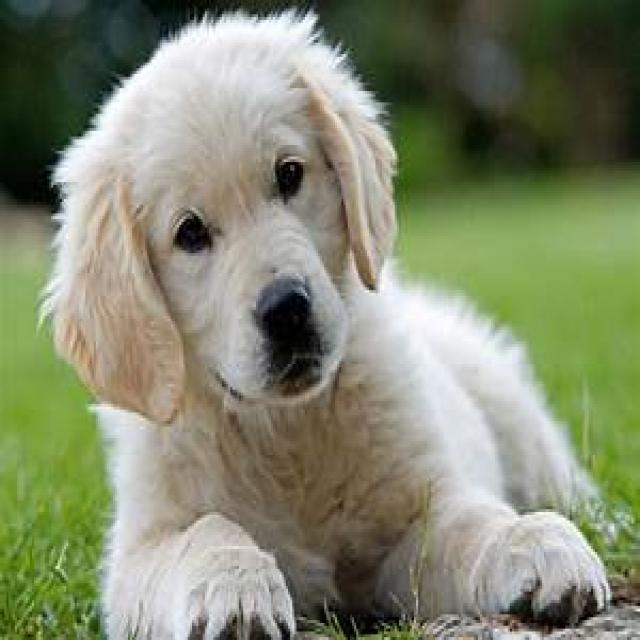dog: (38, 11, 612, 640)
